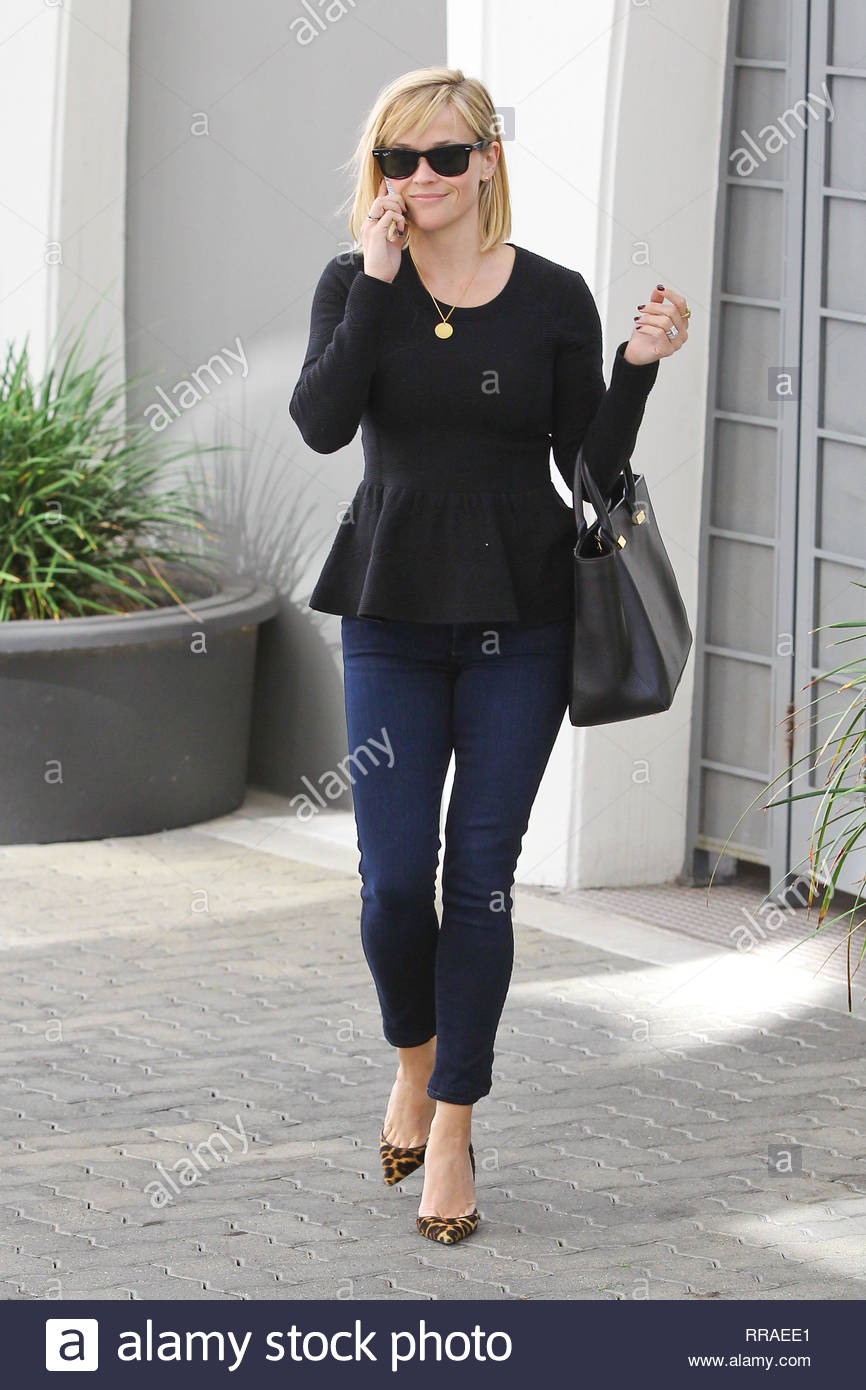phone: (353, 164, 405, 246)
talk: (336, 133, 502, 291)
